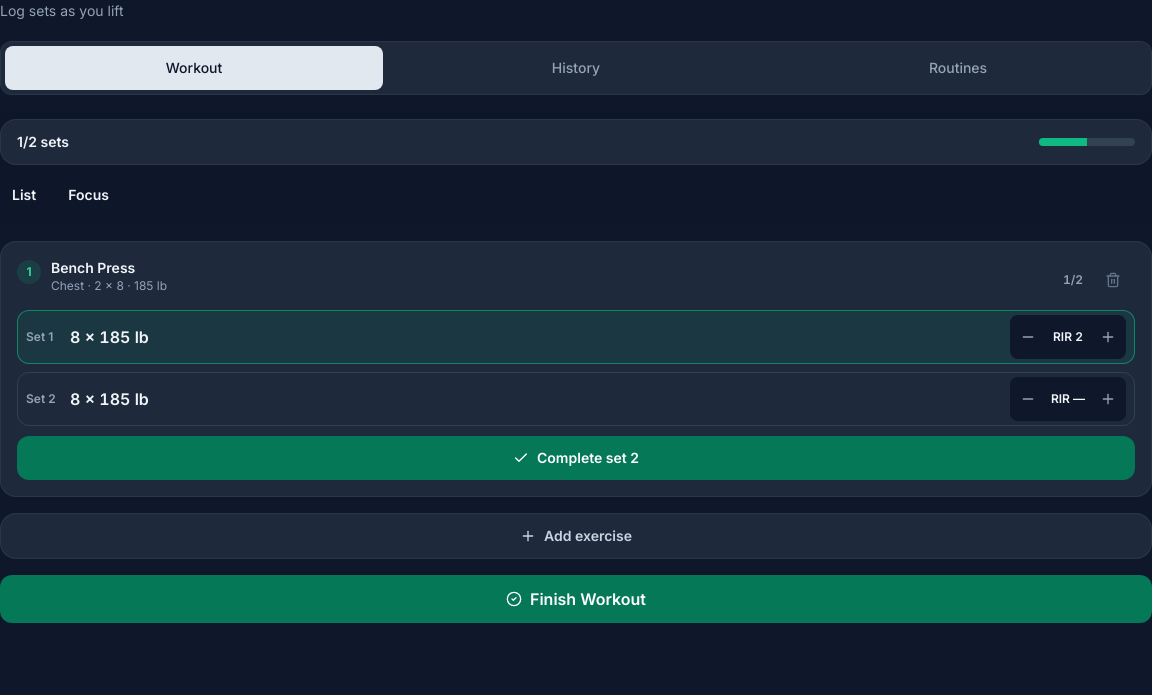
Scenario: active-workout operate layout › expands the exercise selector from the collapsed add-exercise row
The image size is (1152, 695).
Click the button "Add exercise".
click(576, 536)  # box [0,513,1151,559]
(page scrolled)
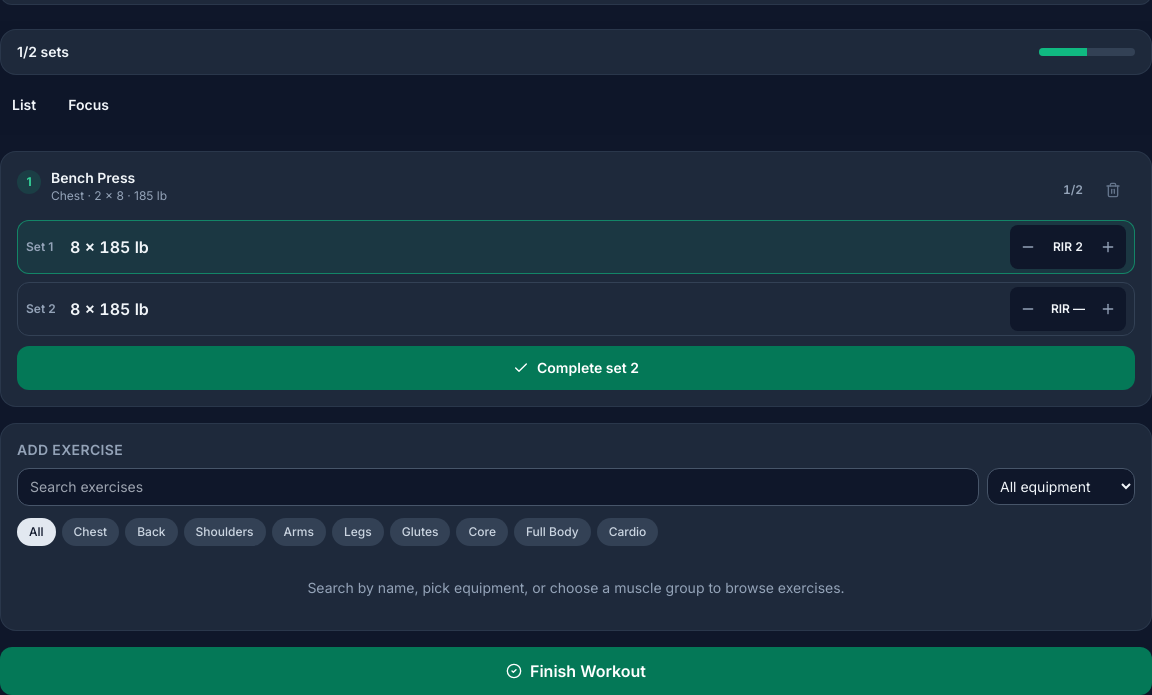
Result: the element "Add Exercise" is shown at [0,423,1151,631]
